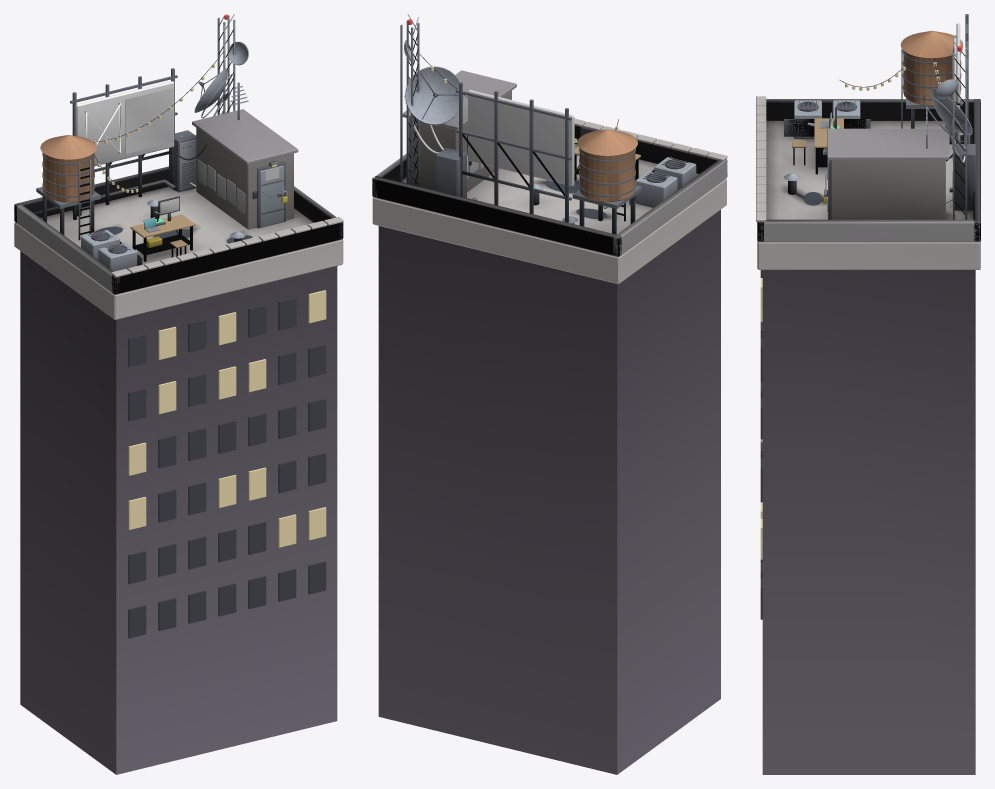
The model's file is rooftop.glb.
3 renders of one model, left to right at view 1: azimuth 30°, elevation 25°; view 2: azimuth 150°, elevation 25°; view 3: azimuth 270°, elevation 25°, orthographic. The views are drawn at different scales.
Parts seen in each view (by area): view 1: building, coping_0, win_0_0, hut_roof, bulb2_0, ac_0, ac_fan_0, sign_plate, tank, sign_type, bench_shelf; view 2: building, coping_0, hut_roof, ac_fan_0, sign_plate, ac_0, tank; view 3: building, coping_0, hut_roof, ac_fan_0, ac_0, tank, bench_shelf, win_0_0, bulb2_0, sign_plate.
Boxes of the visible parts, x1,y1,x2,y2 form: building: [20, 251, 337, 774]; coping_0: [14, 128, 343, 319]; win_0_0: [128, 297, 326, 638]; hut_roof: [14, 109, 343, 294]; bulb2_0: [94, 64, 326, 547]; ac_0: [77, 15, 283, 271]; ac_fan_0: [36, 68, 285, 265]; sign_plate: [75, 81, 174, 165]; tank: [40, 135, 96, 202]; sign_type: [125, 88, 173, 153]; bench_shelf: [130, 214, 195, 254]; building: [378, 209, 720, 774]; coping_0: [372, 91, 727, 284]; hut_roof: [372, 70, 727, 256]; ac_fan_0: [404, 82, 688, 234]; sign_plate: [468, 90, 574, 186]; ac_0: [400, 20, 696, 223]; tank: [577, 129, 637, 201]; building: [762, 270, 975, 774]; coping_0: [756, 96, 980, 269]; hut_roof: [757, 99, 980, 241]; ac_fan_0: [784, 14, 975, 219]; ac_0: [784, 47, 972, 219]; tank: [900, 30, 963, 105]; bench_shelf: [792, 118, 843, 167]; win_0_0: [760, 270, 762, 619]; bulb2_0: [760, 62, 941, 559]; sign_plate: [956, 23, 960, 143].
Size of the model in its own units: 8.4 by 22.71 by 6.44.
